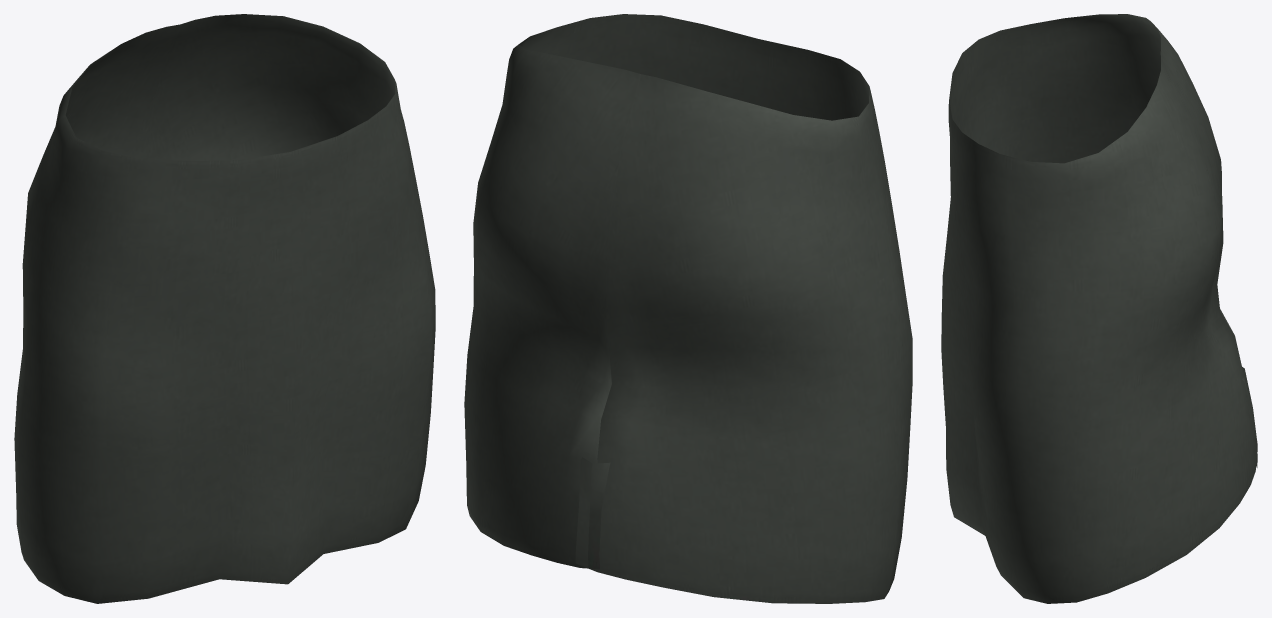
The model's file is bottom_pencil_skirt.gltf.
3 renders of one model, left to right at view 1: azimuth 30°, elevation 25°; view 2: azimuth 150°, elevation 25°; view 3: azimuth 270°, elevation 25°, orthographic. The views are drawn at different scales.
Parts seen in each view (by area): view 1: bottom_pencil_skirt; view 2: bottom_pencil_skirt; view 3: bottom_pencil_skirt.
Boxes of the visible parts, x1,y1,x2,y2 form: bottom_pencil_skirt: [14, 14, 435, 603]; bottom_pencil_skirt: [464, 14, 912, 603]; bottom_pencil_skirt: [941, 14, 1257, 603].
Bounding box in the file's own units: 0.3766 × 0.4567 × 0.2769.
1 material, 1 textured.
